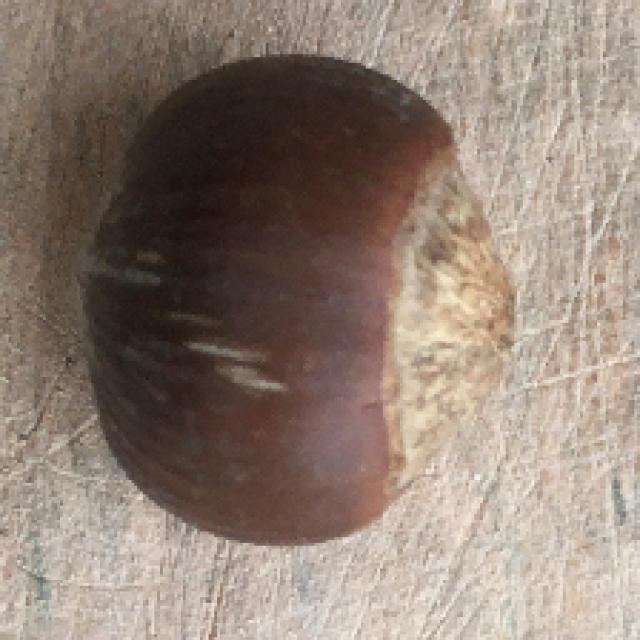DamagedHazelnut: (82, 55, 515, 545)
